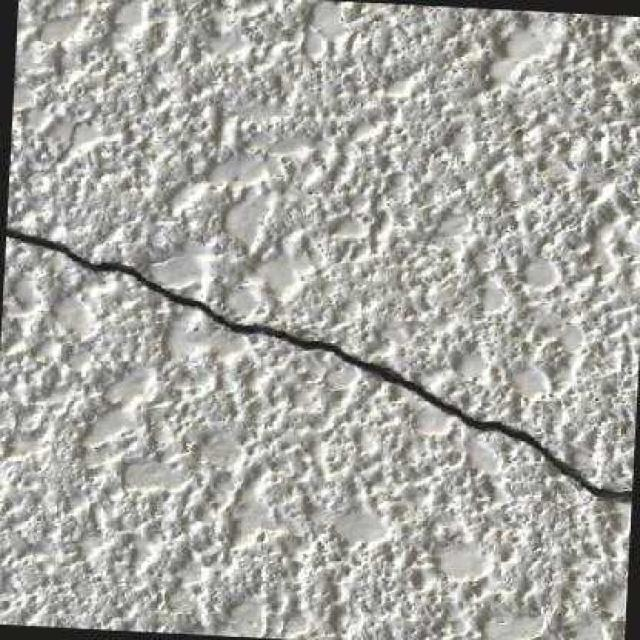D00: (8, 225, 627, 503)
